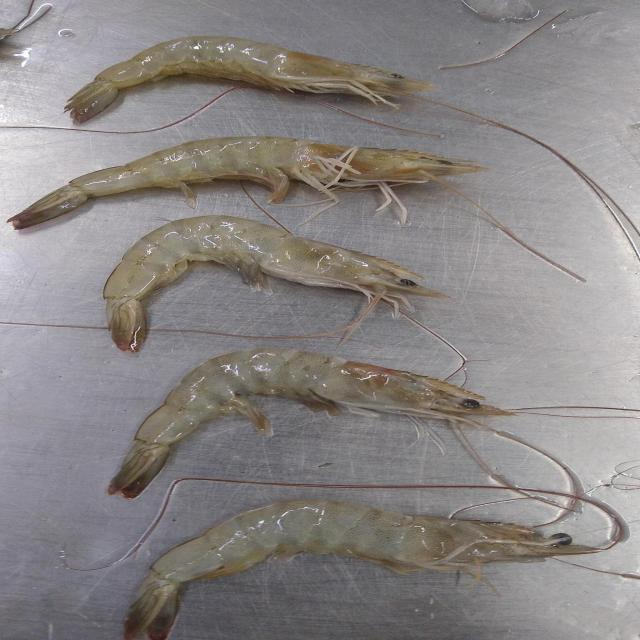shrimp: (124, 500, 598, 640), (109, 349, 511, 499), (104, 215, 449, 351), (9, 136, 487, 229), (64, 36, 433, 124)
